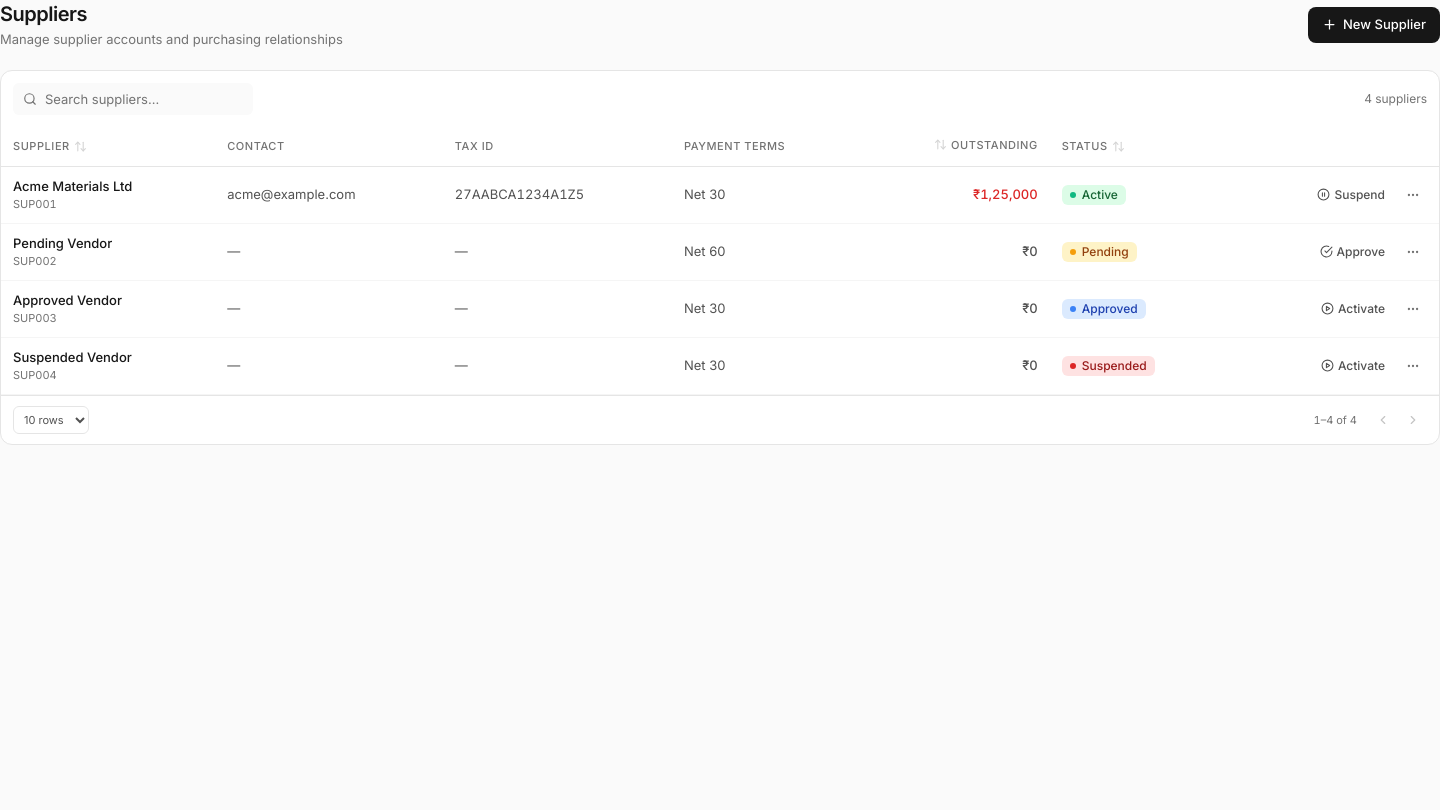
SuppliersPage › shows suspend confirmation dialog before suspending (VAL-P2P-002)
What coordinates should you click on to do the following:
click the button "Suspend"
I would click on:
 (1351, 195)
Its box is [1308, 181, 1395, 209].
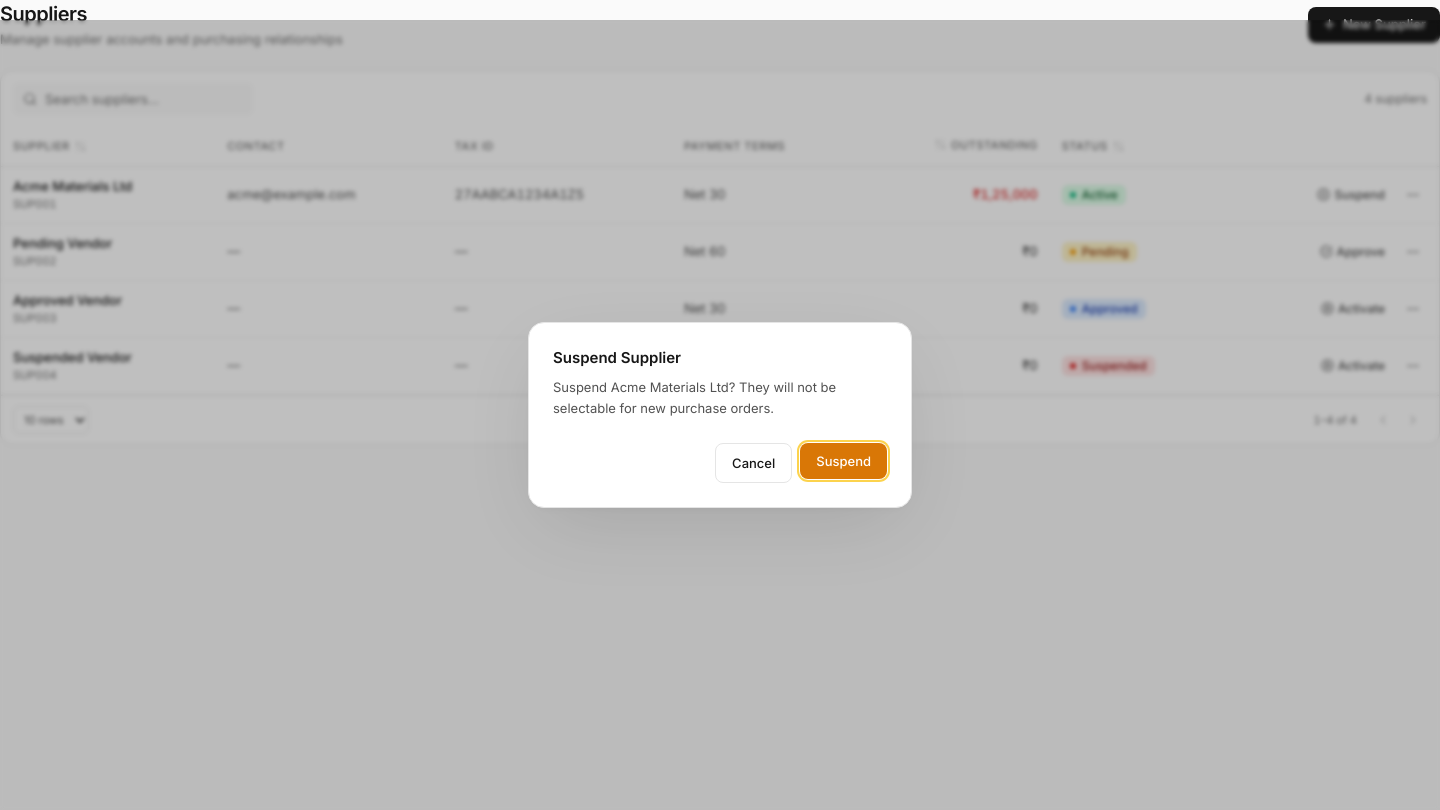
expect the heading "Suspend Supplier" is shown: met, box [553, 348, 681, 367]
